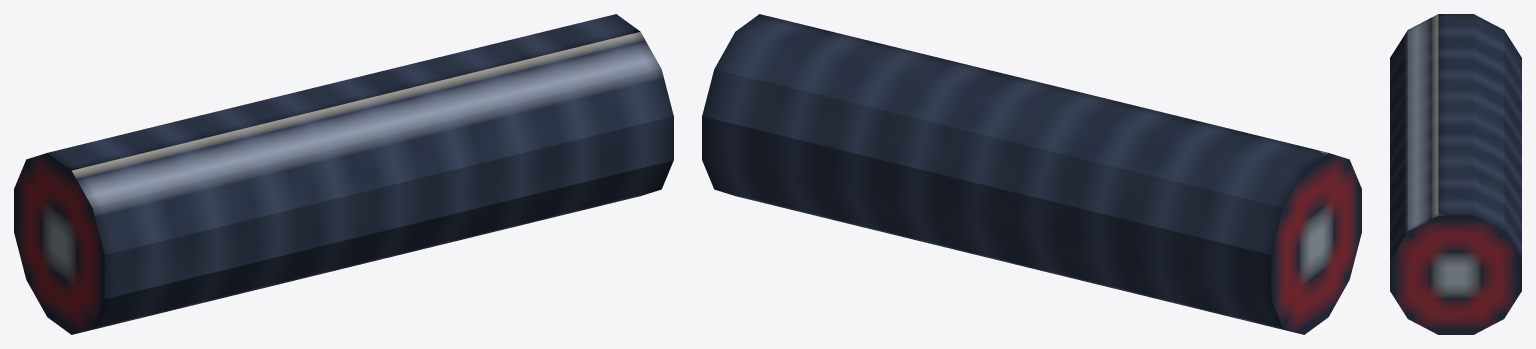
Rendered from era2_drum_bank_drum_4_double_sided.obj.
3 renders of one model, left to right at view 1: azimuth 30°, elevation 25°; view 2: azimuth 150°, elevation 25°; view 3: azimuth 270°, elevation 25°, orthographic. The views are drawn at different scales.
Parts seen in each view (by area): view 1: era2_drum_bank_drum_4; view 2: era2_drum_bank_drum_4; view 3: era2_drum_bank_drum_4.
Part boxes in pixels (<box>): era2_drum_bank_drum_4: <box>14,14,673,334</box>; era2_drum_bank_drum_4: <box>702,14,1361,334</box>; era2_drum_bank_drum_4: <box>1390,14,1521,334</box>.
Size of the model in its own units: 1.75 by 0.483 by 0.483.
